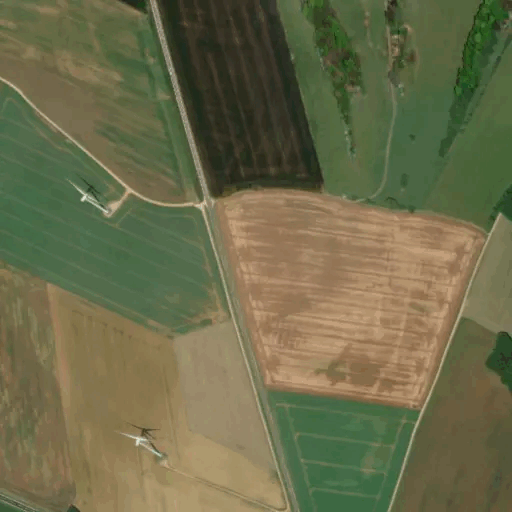wt: (110, 415, 168, 466), (62, 169, 116, 221)
